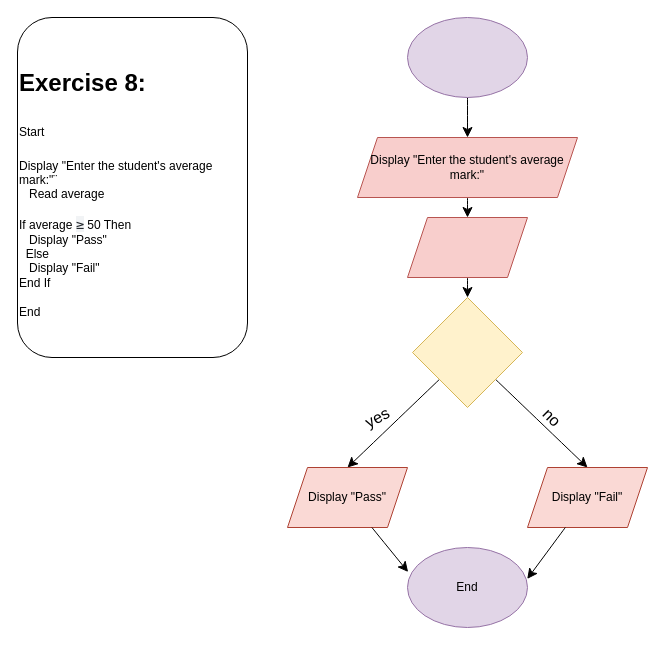
Some shapes in this 665 by 645 pixel diagram are drawn without their labels. The centre of each missing label's shape, as x and y in pixels:
Is average ≥ 50 ?: [467,352]
Read average: [467,247]
Start: [467,57]
